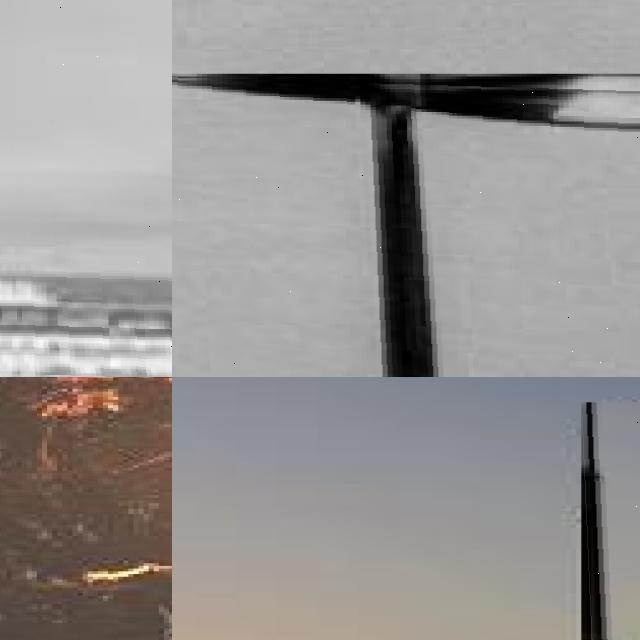street light: (172, 74, 640, 377), (0, 0, 172, 377), (581, 402, 640, 640)
